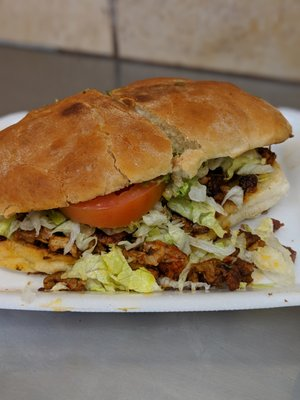soup: (0, 77, 296, 296)
